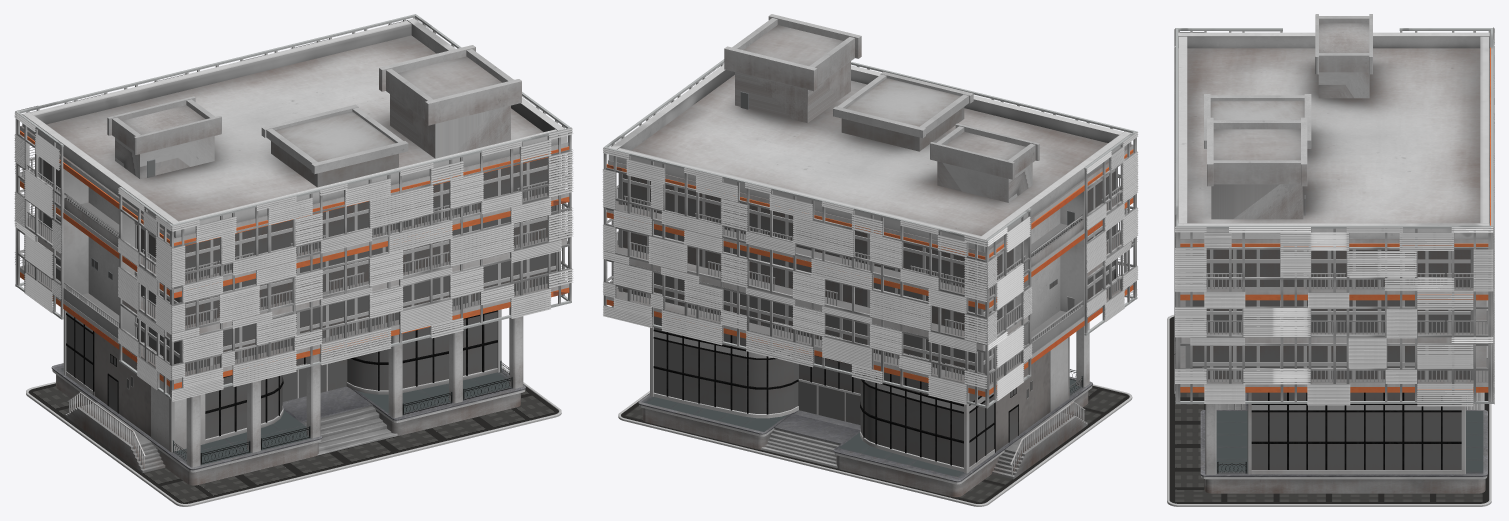
The model's file is toaF.fbx.
3 renders of one model, left to right at view 1: azimuth 30°, elevation 25°; view 2: azimuth 150°, elevation 25°; view 3: azimuth 270°, elevation 25°, orthographic. The views are drawn at different scales.
Parts seen in each view (by area): view 1: Toa_F; view 2: Toa_F; view 3: Toa_F.
Part boxes in pixels (x1,y1,x2,y2): Toa_F: (14,14,573,506); Toa_F: (602,14,1138,506); Toa_F: (1167,14,1494,506).
Size of the model in its own units: 3367 by 2601 by 2337.
